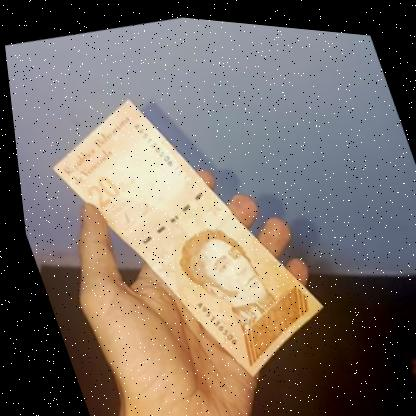twenty-front-vef: (25, 59, 342, 413)
